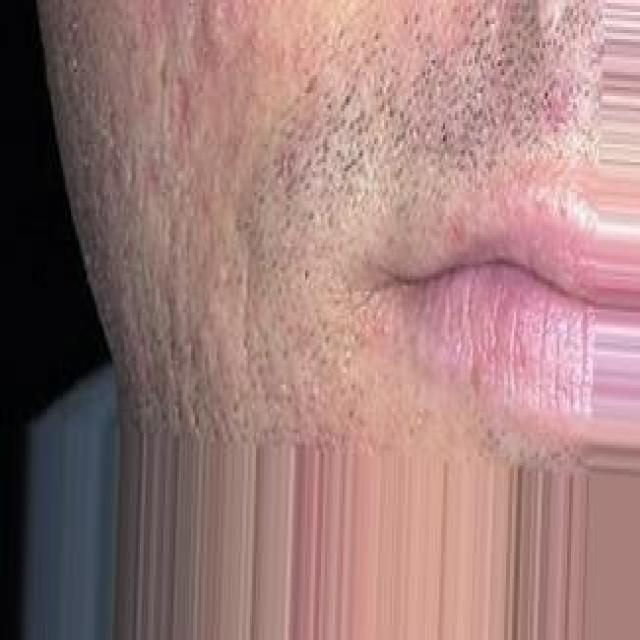Rosacea: (105, 0, 251, 195)
